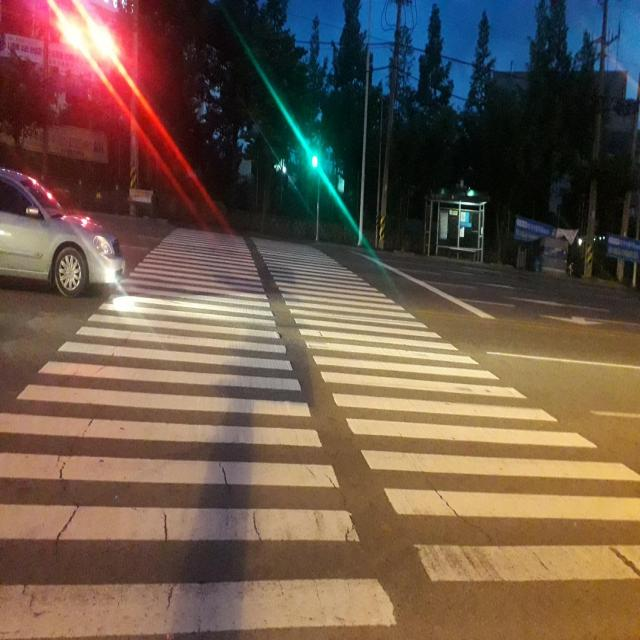초록불: (309, 148, 319, 183)
횡단보도: (0, 226, 640, 640)
